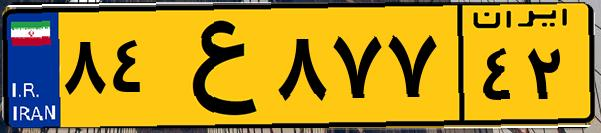2: (525, 38, 570, 115)
4: (475, 38, 525, 113), (110, 28, 158, 98)
7: (385, 28, 445, 110), (330, 28, 385, 110)
8: (270, 28, 330, 110), (57, 26, 110, 100)
ع: (158, 12, 270, 120)
